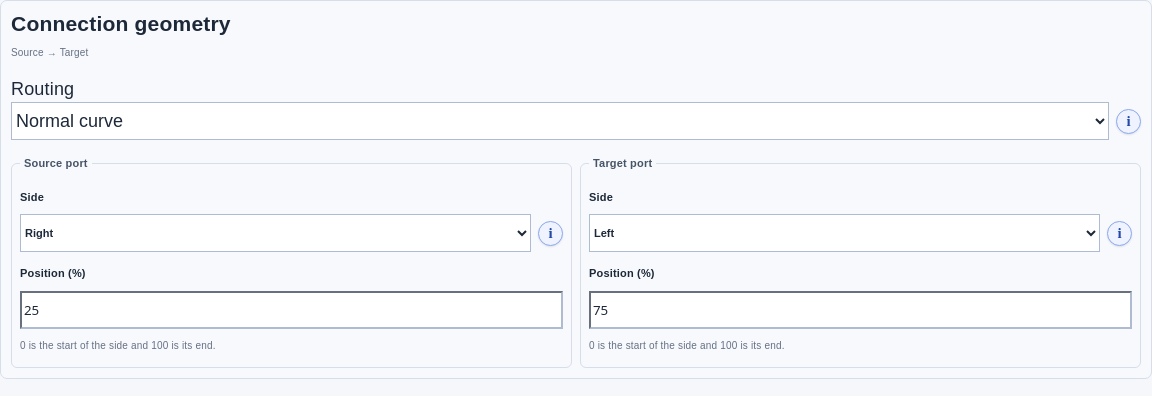
Test case: MetamodelConnectionGeometryEditor › rejects invalid port percentages
Replace the text in the field labelled "Position (%)" below "Source port" with "101" at (292, 310), box 20,291 -> 563,329
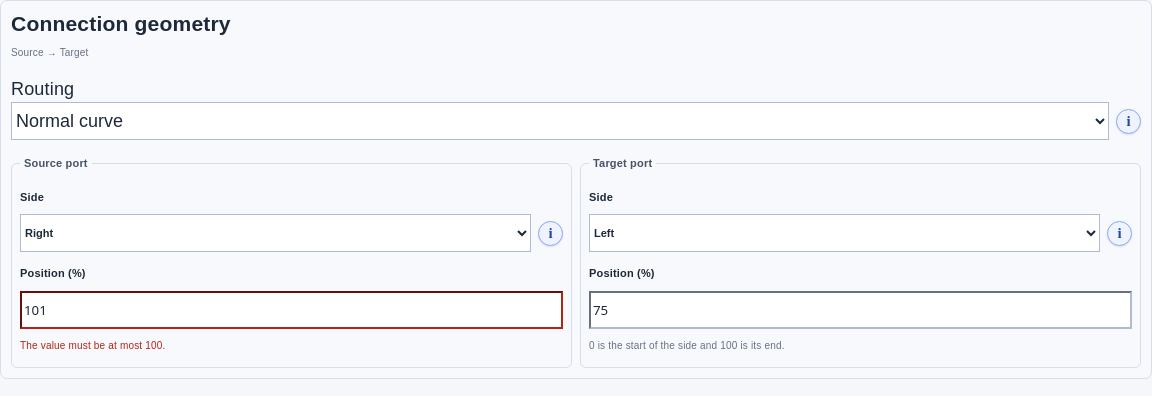
Result: the message "The value must be at most 100." is shown at 20,340 -> 166,351
